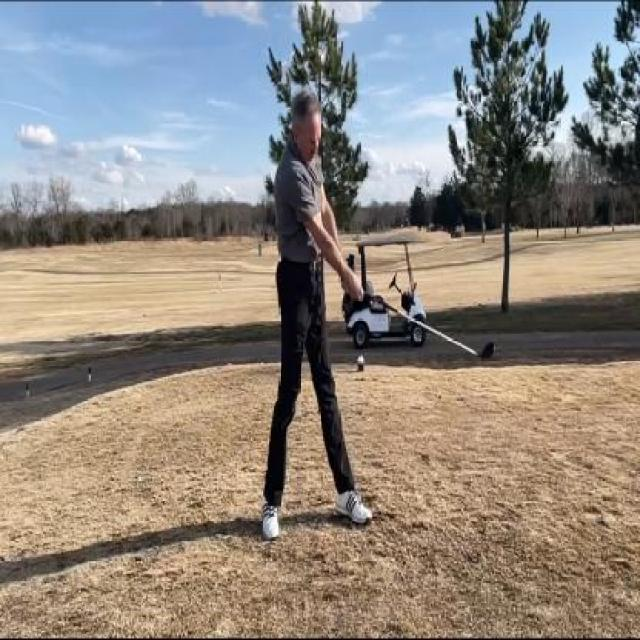club head: (466, 338, 496, 365)
